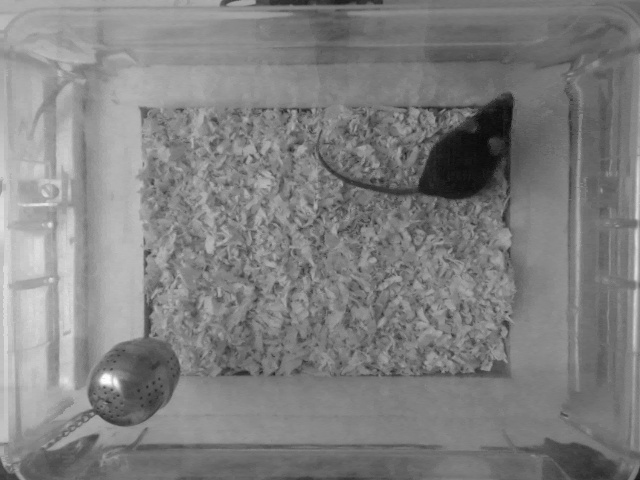mice: (310, 91, 517, 202)
